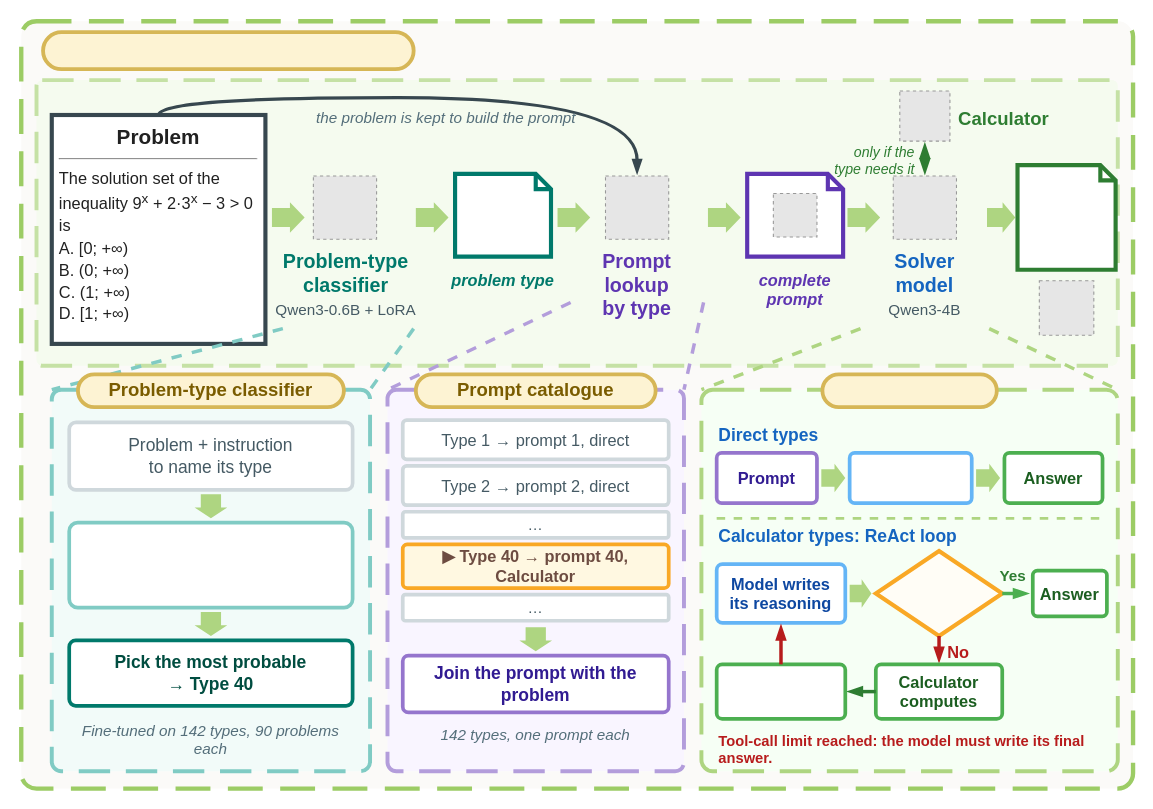
The diagram is 1153 pixels wide and 809 high, and some of its shapes have lost their labels. Grey dashed boxes stand in for pictures. Here are the shapes that lost their labels. From the top down, the centre of each, then its label:
At (228,50): "Automatic math problem solving".
At (502,214): "Type 40".
At (1066,217): "Answer B".
At (909,390): "Solving".
At (910,477): "Model answers".
At (210,564): "Probability of each of the 142 strings «Type N: description»".
At (938,593): "Final answer?".
At (780,691): "Result".
